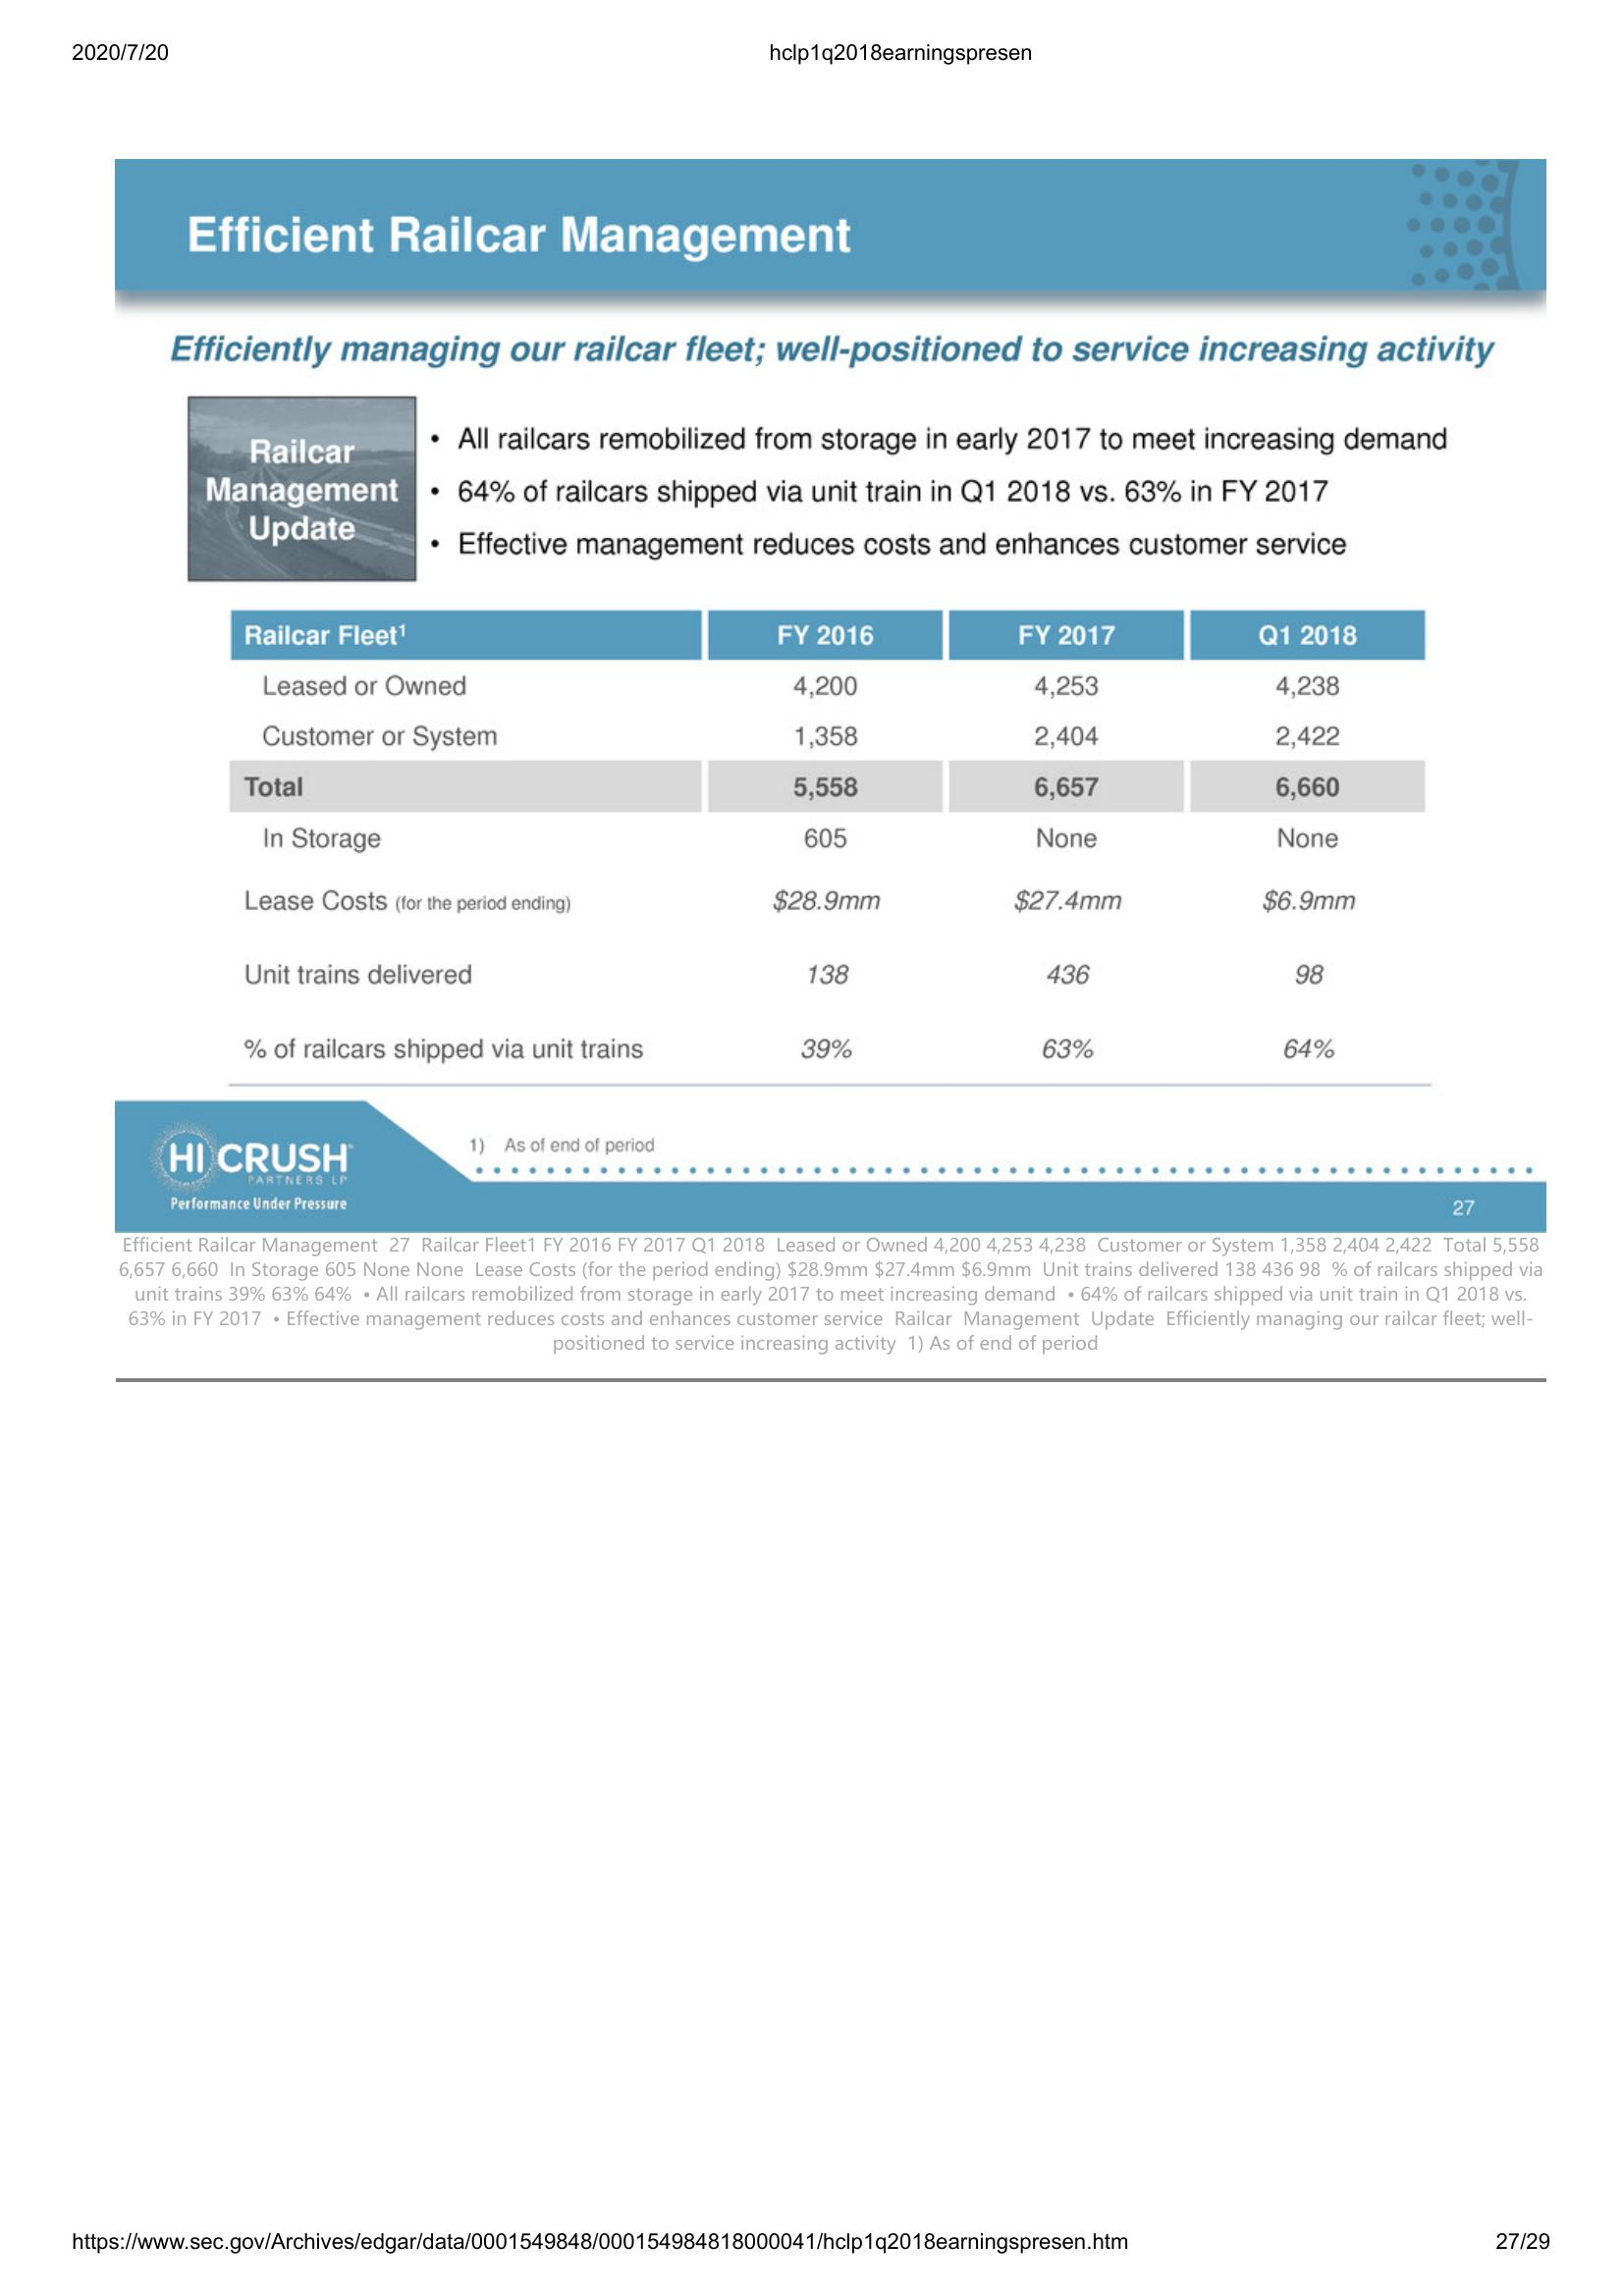table: (223, 602, 1437, 1088)
